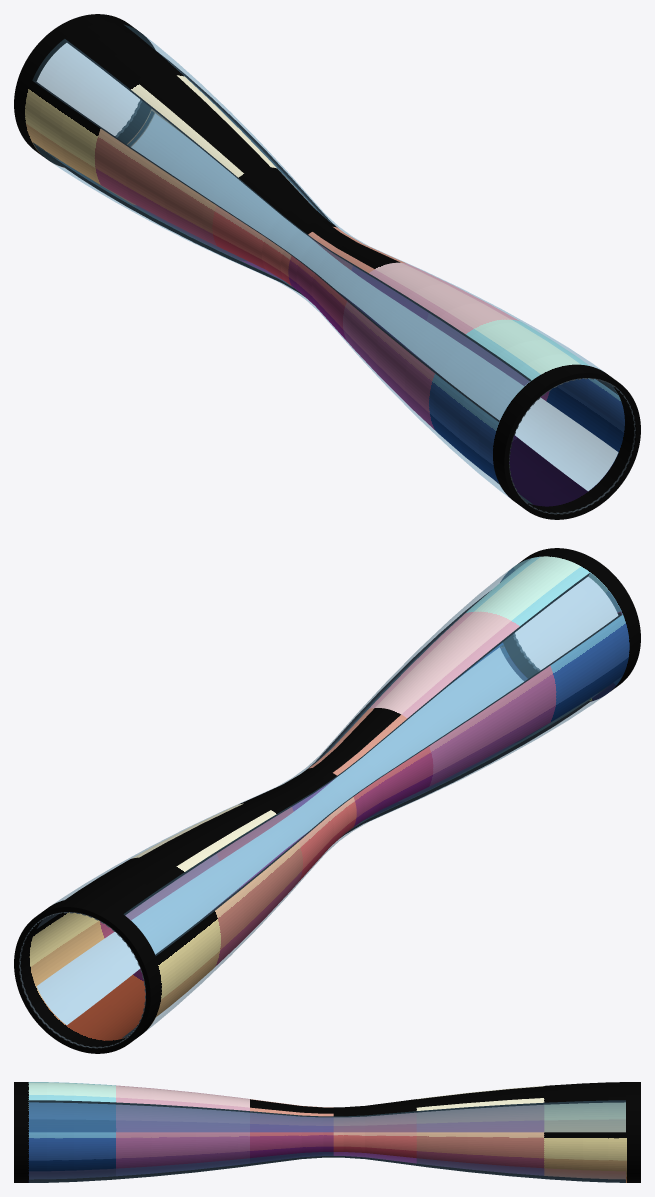
Rendered from LD50-Pipe-200m-Thinned-01.glb.
3 renders of one model, top to bottom at view 1: azimuth 30°, elevation 25°; view 2: azimuth 150°, elevation 25°; view 3: azimuth 270°, elevation 25°, orthographic. The views are drawn at different scales.
Parts seen in each view (by area): view 1: Pipe-200m-Thinned-01, Pipe-200m-Thinned-01-Joint; view 2: Pipe-200m-Thinned-01, Pipe-200m-Thinned-01-Joint; view 3: Pipe-200m-Thinned-01.
Part boxes in pixels (x1=…): Pipe-200m-Thinned-01: x1=14, y1=14, x2=640, y2=519; Pipe-200m-Thinned-01-Joint: x1=34, y1=100, x2=635, y2=514; Pipe-200m-Thinned-01: x1=14, y1=548, x2=640, y2=1053; Pipe-200m-Thinned-01-Joint: x1=19, y1=633, x2=539, y2=1048; Pipe-200m-Thinned-01: x1=14, y1=1082, x2=640, y2=1182.
Size of the model in its own units: 32.2 by 32.2 by 200.
Materials: 2 (2 with a texture image).
